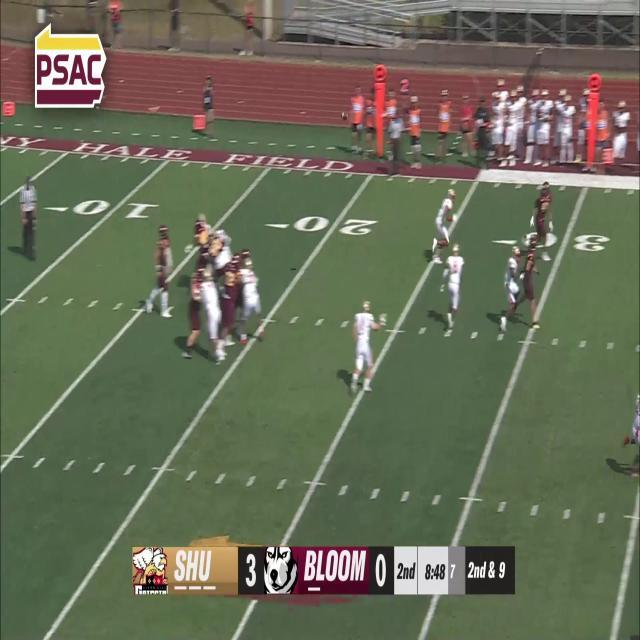football: (341, 110, 349, 120)
